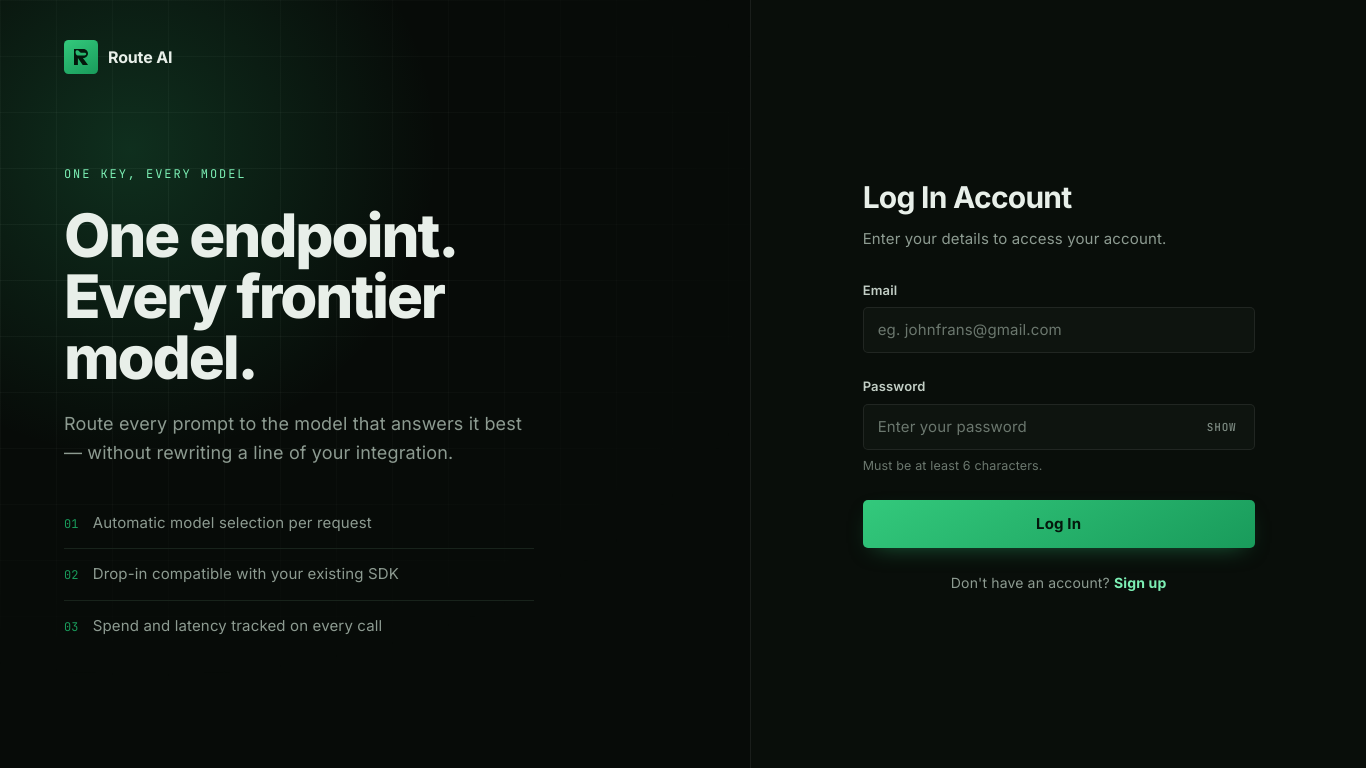
Test: Login › client-side validation › clears a field error as soon as the user edits that field
Click the button "Log In": (1059, 524) x1=863 y1=500 x2=1255 y2=548
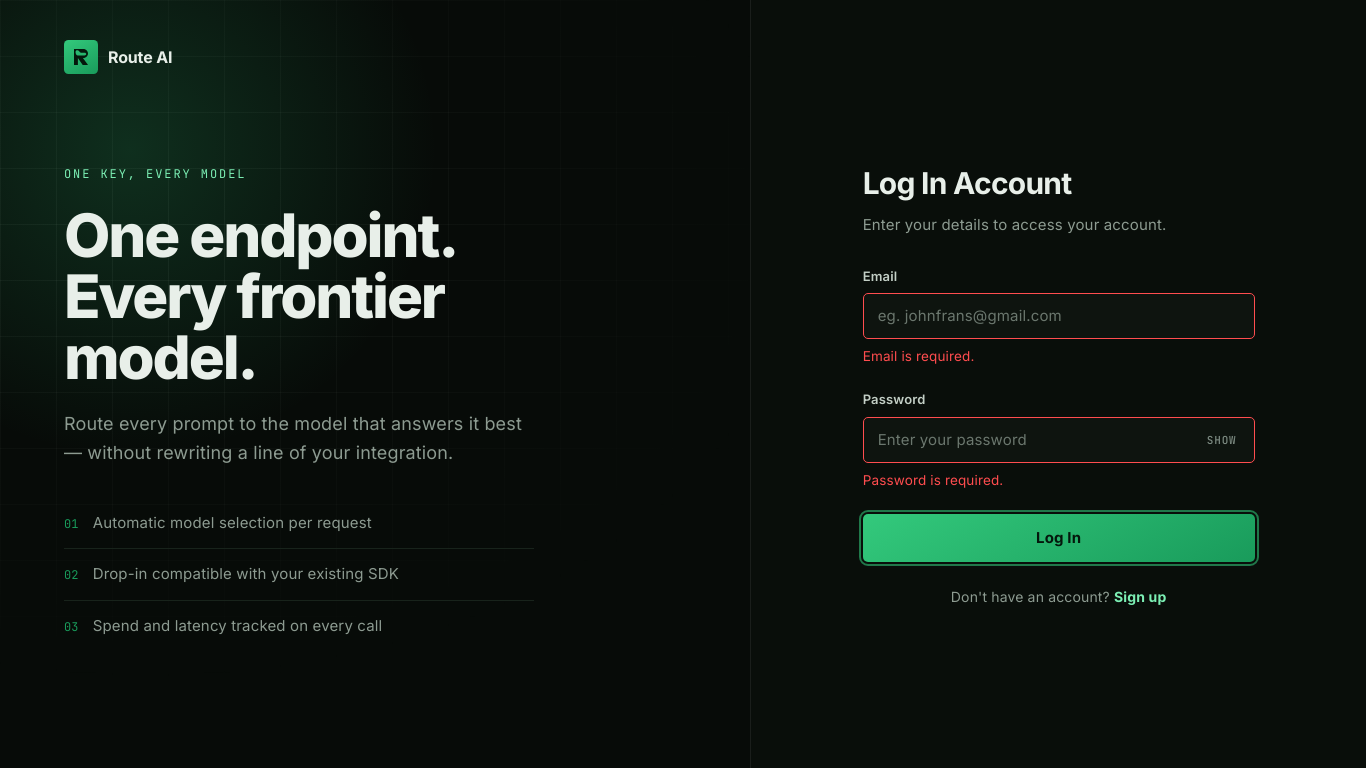
Result: the text "Email is required." is shown at x1=863 y1=348 x2=974 y2=364
In the field labelled "Email": (1059, 316) x1=878 y1=301 x2=1240 y2=331, type "j"
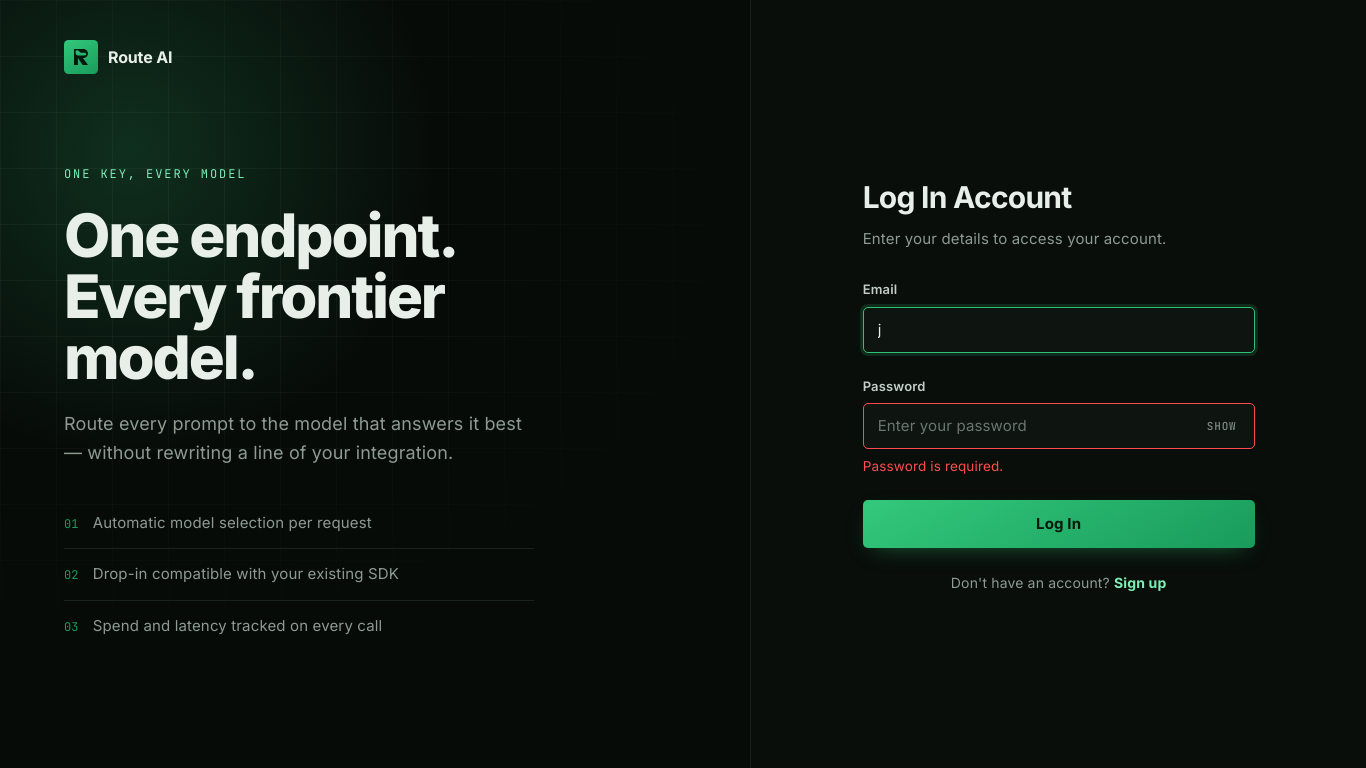
Result: the text "Password is required." is shown at x1=863 y1=458 x2=1003 y2=474
Result: the text "Email is required." is gone
